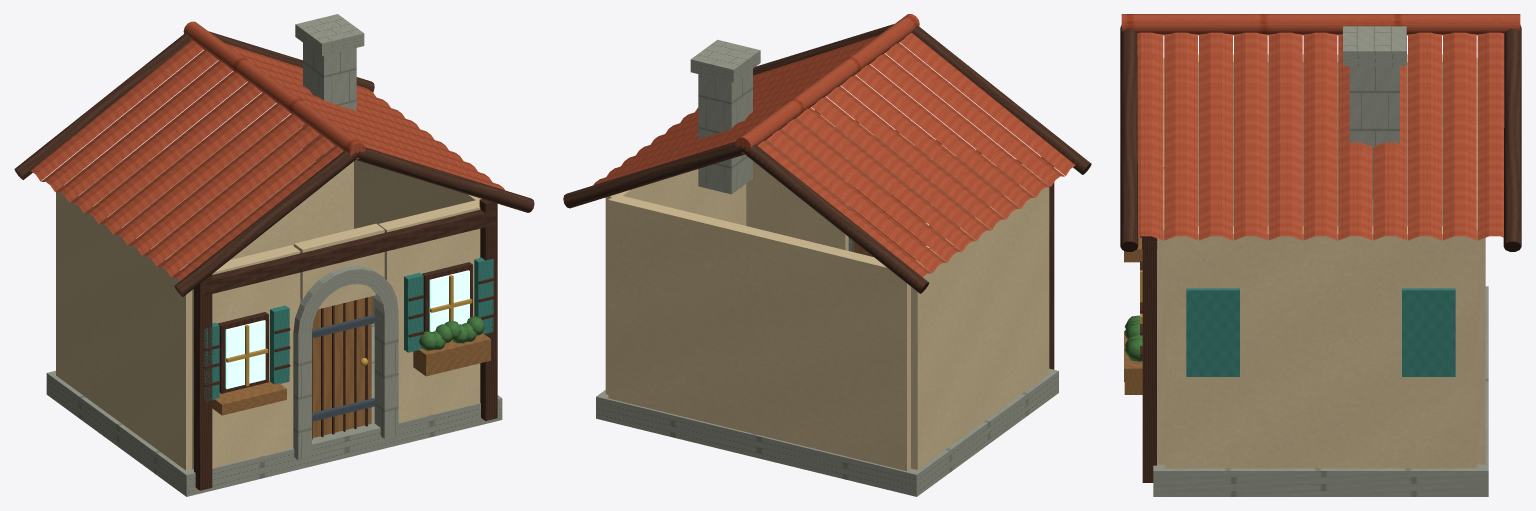
Rendered from house.glb.
The picture shows the model from 3 angles, left to right: view 1: azimuth 30°, elevation 25°; view 2: azimuth 150°, elevation 25°; view 3: azimuth 270°, elevation 25°; orthographic projection. The views are drawn at different scales.
Visible parts, largest first — view 1: house; view 2: house; view 3: house.
Boxes of the visible parts, x1,y1,x2,y2 form: house: (14, 14, 534, 496); house: (563, 14, 1091, 496); house: (1120, 14, 1521, 496).
Size of the model in its own units: 4.12 by 3.79 by 3.35.
10 materials, 10 textured.
